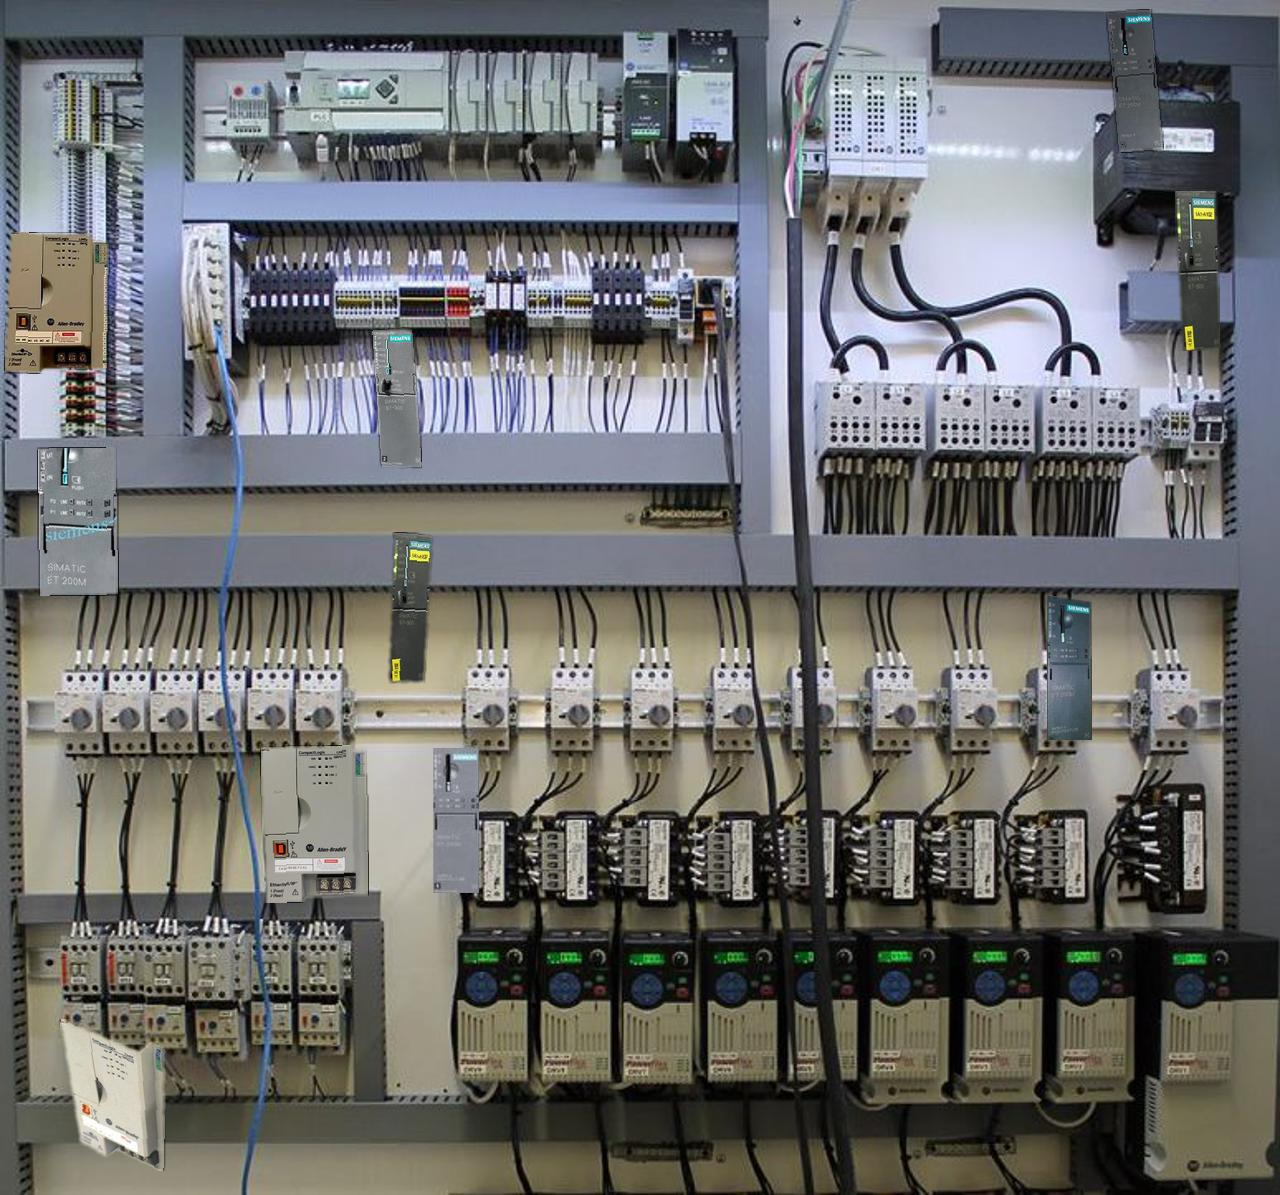AllenBradley: (260, 745, 367, 902), (60, 1019, 164, 1170), (4, 232, 107, 372)
Siemens: (1174, 191, 1219, 350), (372, 329, 421, 466), (388, 533, 431, 681)
